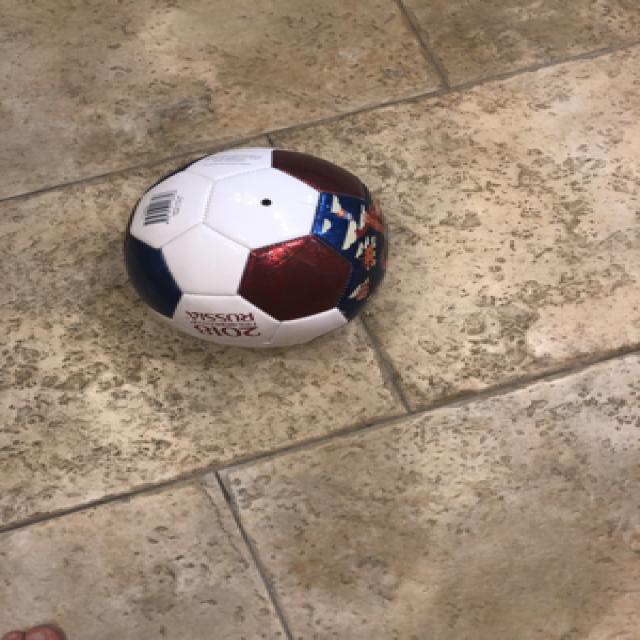soccer_ball: (122, 146, 384, 348)
